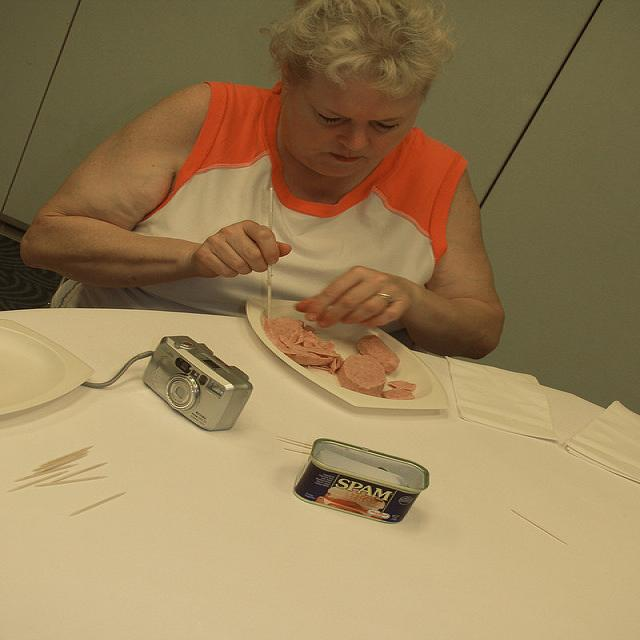chair: (0, 211, 67, 317), (35, 276, 71, 308)
dining table: (2, 311, 635, 631)
